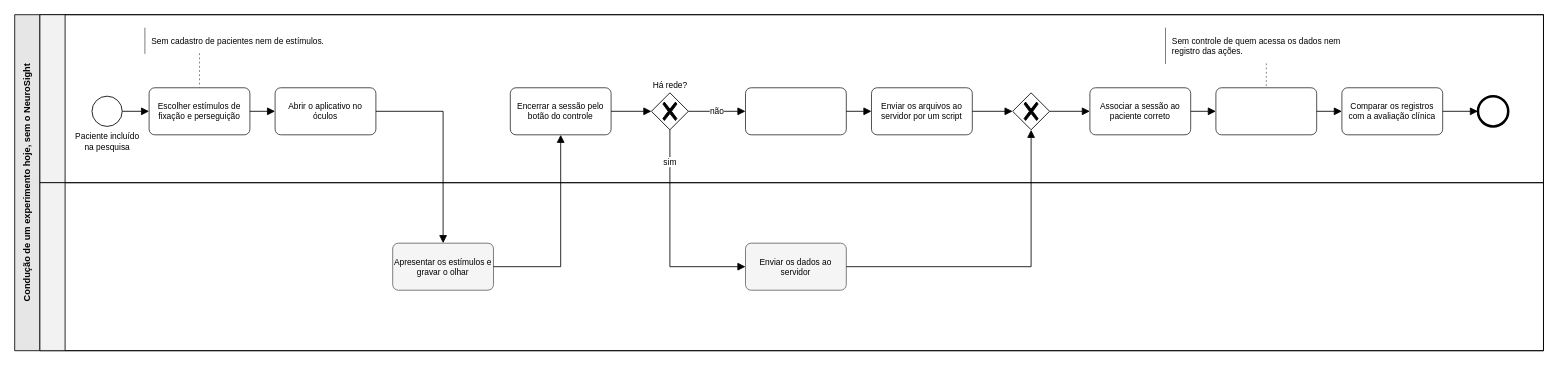
This 1558x365 diagram has some shape labels left out. Here are the shapes that lost their labels. From the top down, the box of each, then its label:
(39, 14, 1544, 183): Pesquisador
(745, 87, 846, 135): Copiar os arquivos do óculos por cabo
(1215, 87, 1317, 135): Rever as gravações em um programa de análise
(1477, 95, 1508, 126): Sessão analisada
(39, 182, 1544, 351): Equipamento (rastreador ou óculos)
